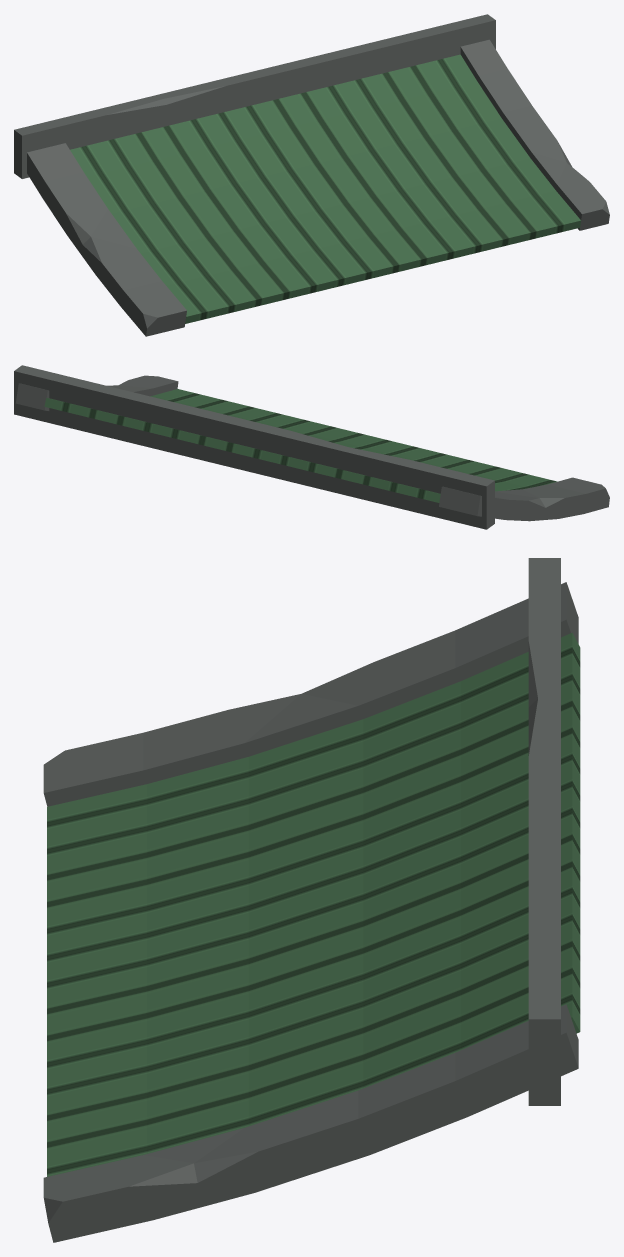
File: SM_Env_Stall_08.fbx
The picture shows the model from 3 angles, top to bottom: view 1: azimuth 30°, elevation 25°; view 2: azimuth 150°, elevation 25°; view 3: azimuth 270°, elevation 25°; orthographic projection. The views are drawn at different scales.
Visible parts, largest first — view 1: SM_Env_Stall_08; view 2: SM_Env_Stall_08; view 3: SM_Env_Stall_08.
Boxes of the visible parts, x1,y1,x2,y2 form: SM_Env_Stall_08: (14,14,609,336); SM_Env_Stall_08: (14,365,609,529); SM_Env_Stall_08: (43,558,580,1242).
Bounding box in the file's own units: 254 × 58.89 × 125.
1 material, 1 textured.
